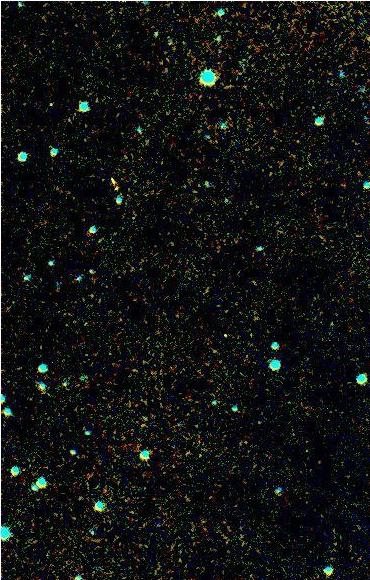star: (209, 317, 239, 347)
